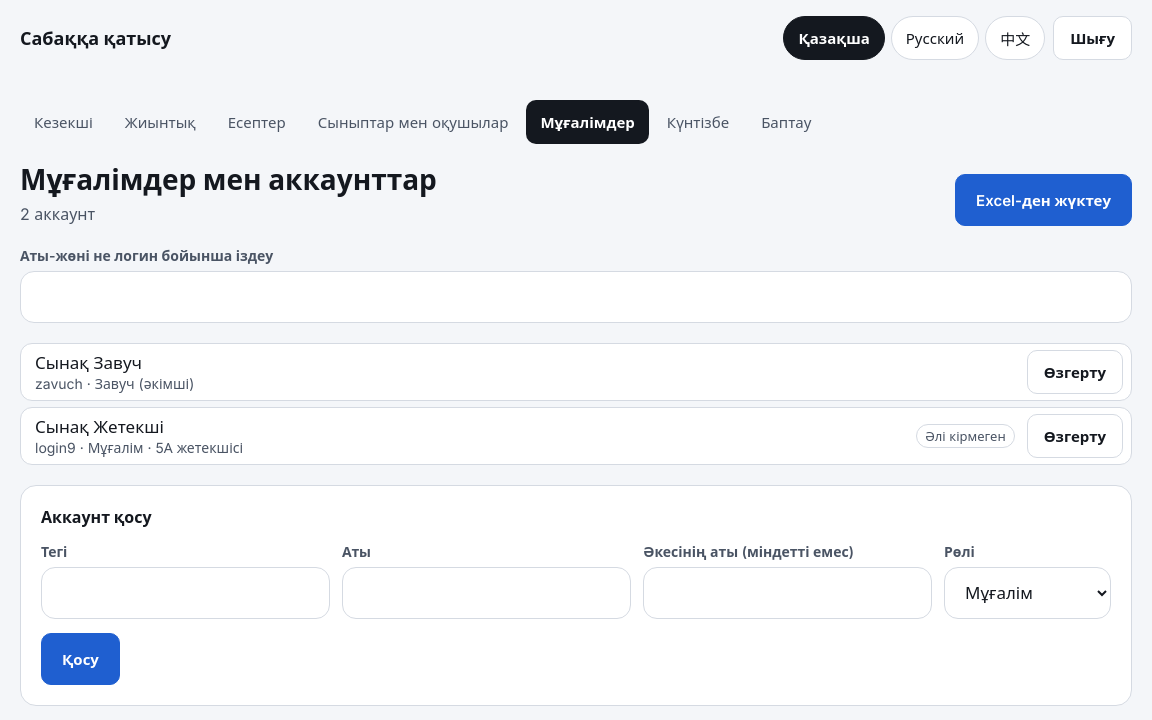
Scenario: мұғалімдер › жаңа бір реттік пароль бір рет көрсетіледі
The width and height of the screenshot is (1152, 720).
Expected: the text "login9 · Мұғалім · 5А жетекшісі" is shown, [35, 439, 243, 456]
Expected: the text "Әлі кірмеген" is shown, [916, 424, 1015, 448]
Step 1. Click the button with aria-label "Сынақ Жетекші: әрекеттер" → (1075, 436), box [1027, 414, 1123, 458]
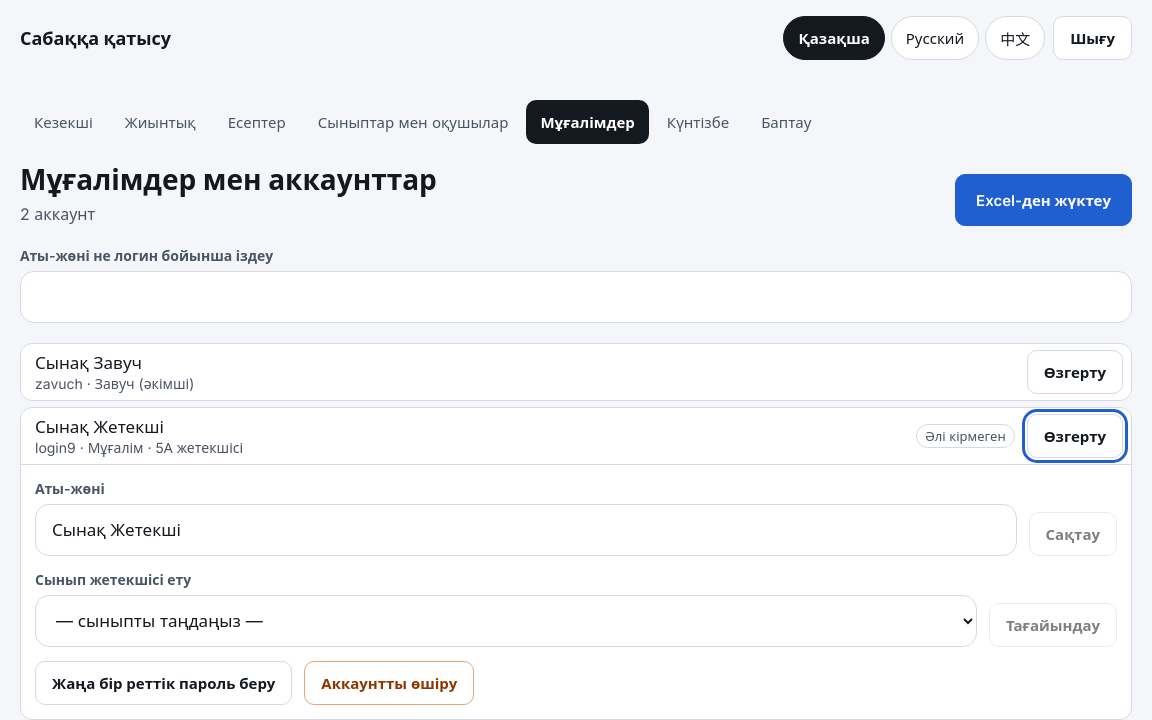
Step 2. Click the button "Жаңа бір реттік пароль беру" → (164, 683), box [35, 661, 292, 705]
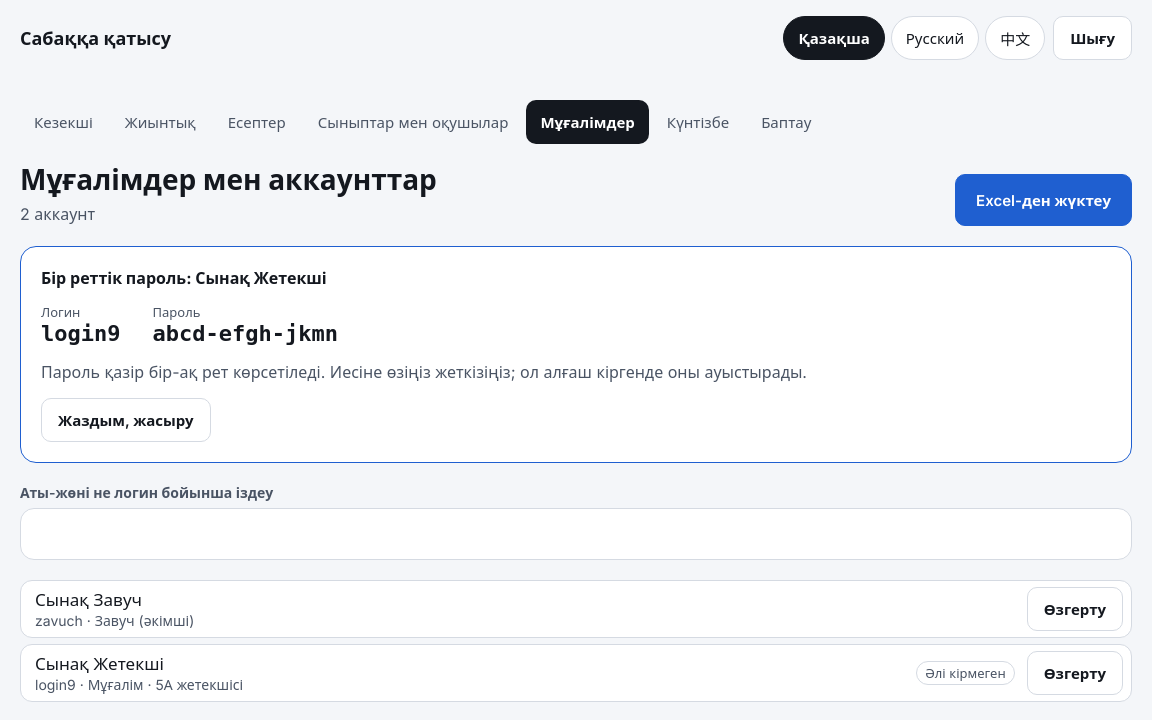
Now the text "abcd-efgh-jkmn" is shown, box [152, 321, 338, 346]
Step 3. Click the button "Жаздым, жасыру" → (126, 420), box [41, 398, 211, 442]
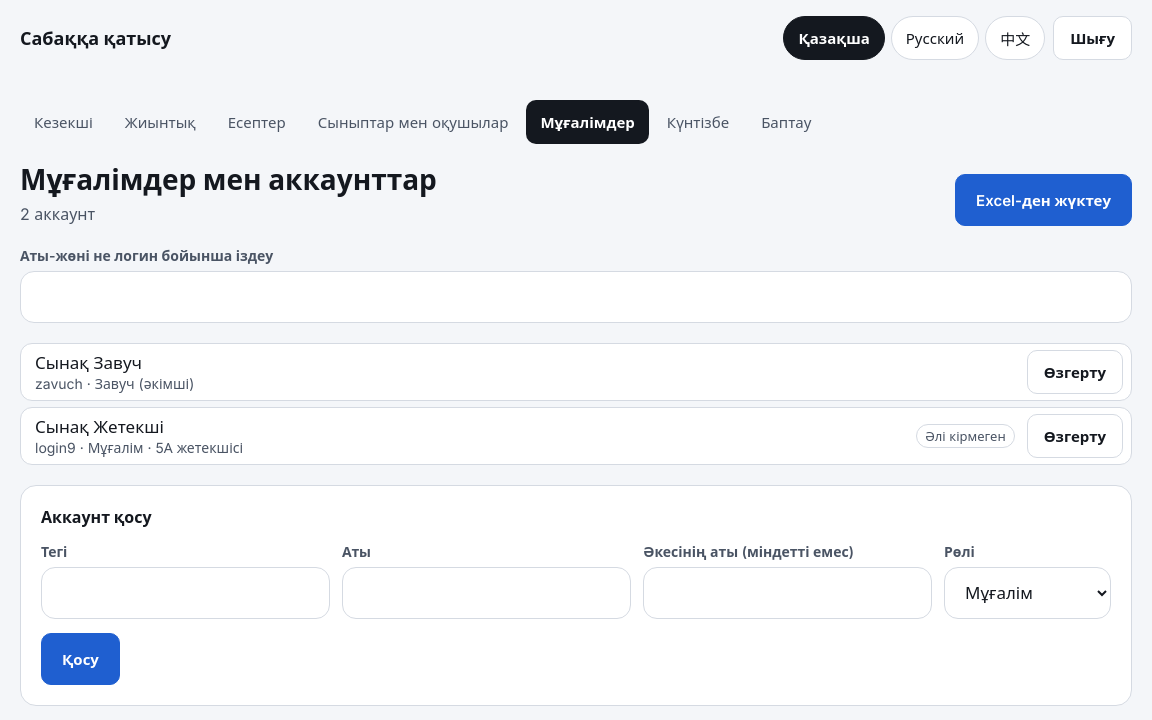
Now the text "abcd-efgh-jkmn" is gone
